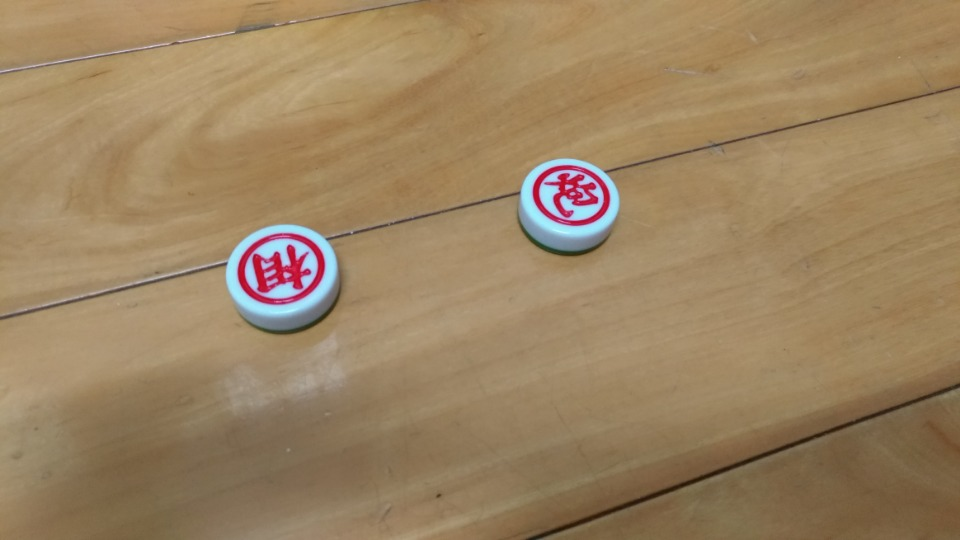r-cannon: (513, 149, 632, 270)
r-elephant: (208, 211, 358, 340)
